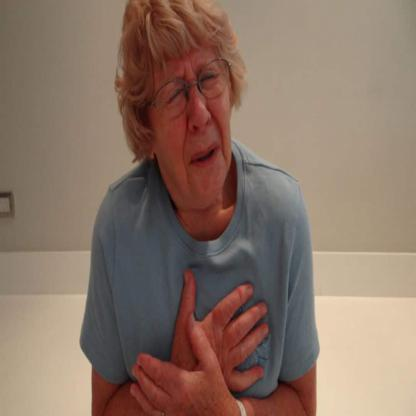pain: (148, 56, 233, 118)
